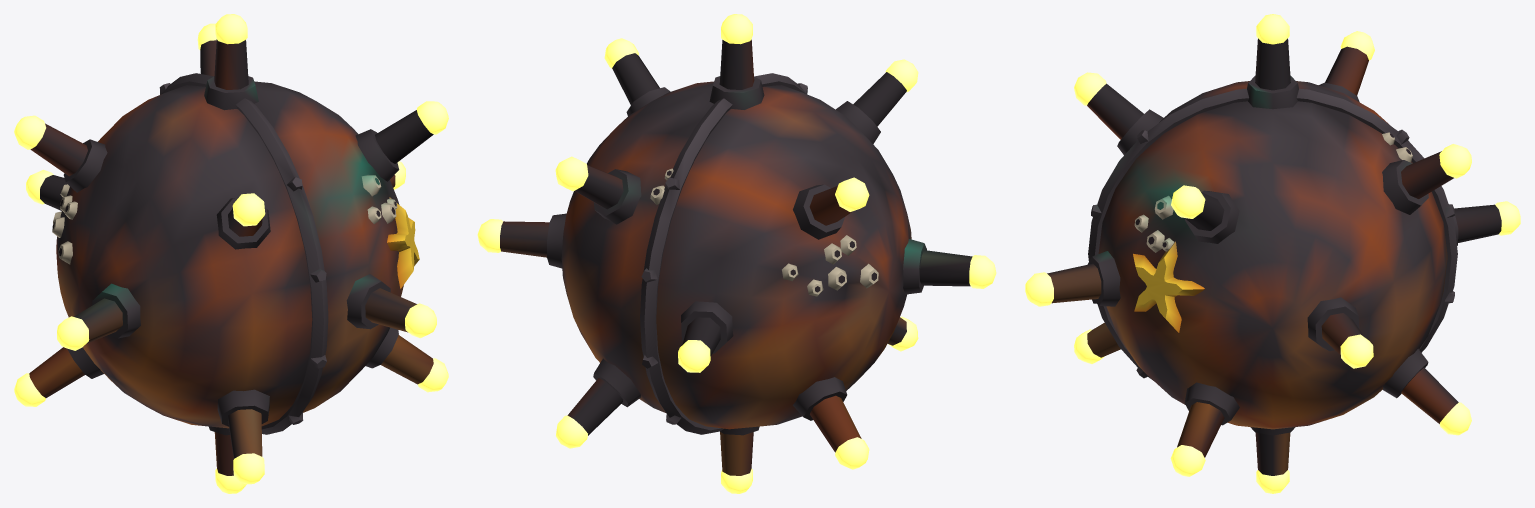
Rendered from boulder_underwater.glb.
3 views of the same model, side by side, from view 1: azimuth 30°, elevation 25°; view 2: azimuth 150°, elevation 25°; view 3: azimuth 270°, elevation 25° (orthographic).
Visible parts, largest first — view 1: shell; view 2: shell; view 3: shell.
Part boxes in pixels (bbox=[...]): shell: bbox=[14, 14, 448, 493]; shell: bbox=[477, 14, 996, 493]; shell: bbox=[1025, 14, 1520, 493].
Bounding box in the file's own units: 1.69 × 1.8 × 1.69.
